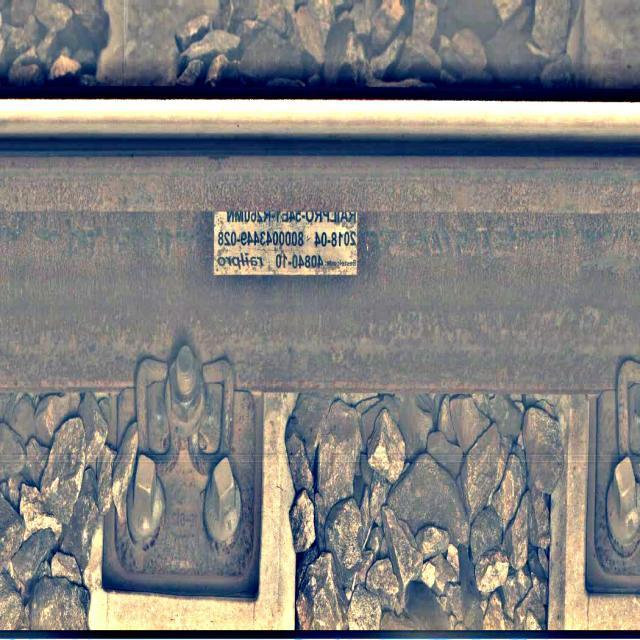Good Fasteners: (105, 345, 263, 599), (587, 360, 639, 592)
